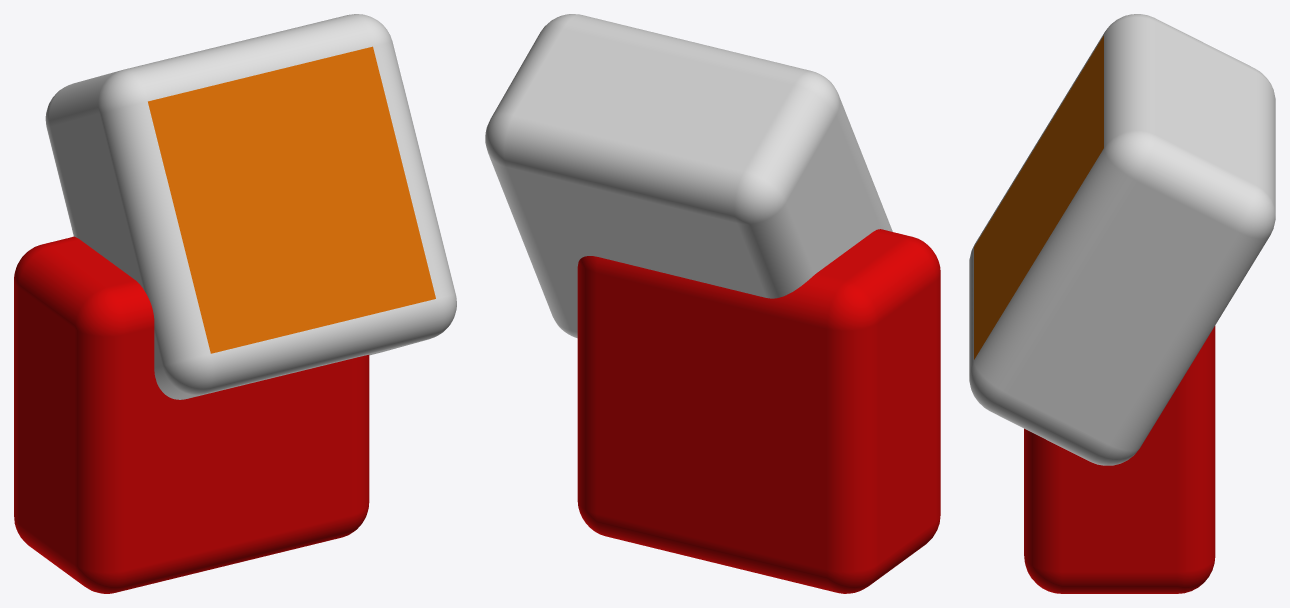
Rendered from random3.fbx.
The picture shows the model from 3 angles, left to right: view 1: azimuth 30°, elevation 25°; view 2: azimuth 150°, elevation 25°; view 3: azimuth 270°, elevation 25°; orthographic projection. The views are drawn at different scales.
Visible parts, largest first — view 1: obj1; view 2: obj1; view 3: obj1.
Part boxes in pixels (x1=…): obj1: x1=14, y1=14, x2=456, y2=593; obj1: x1=485, y1=14, x2=940, y2=593; obj1: x1=969, y1=14, x2=1275, y2=593.
Bounding box in the file's own units: 10.9 × 14.15 × 8.02.
